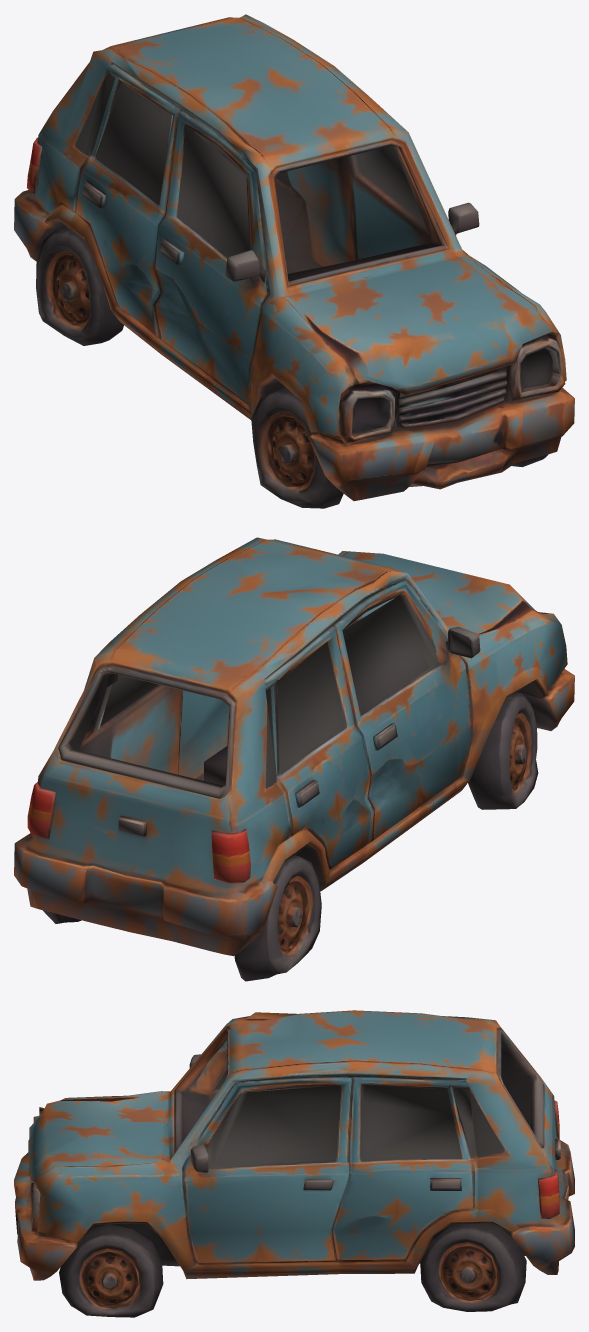
The model's file is prop_scrap_car.glb.
The picture shows the model from 3 angles, top to bottom: view 1: azimuth 30°, elevation 25°; view 2: azimuth 150°, elevation 25°; view 3: azimuth 270°, elevation 25°; orthographic projection. The views are drawn at different scales.
Parts seen in each view (by area): view 1: prop_scrap_car; view 2: prop_scrap_car; view 3: prop_scrap_car.
Part boxes in pixels (<box>): prop_scrap_car: <box>14,14,574,508</box>; prop_scrap_car: <box>14,537,574,981</box>; prop_scrap_car: <box>14,1010,574,1317</box>.
Size of the model in its own units: 1.3 by 1.4 by 3.
1 material, 1 textured.
